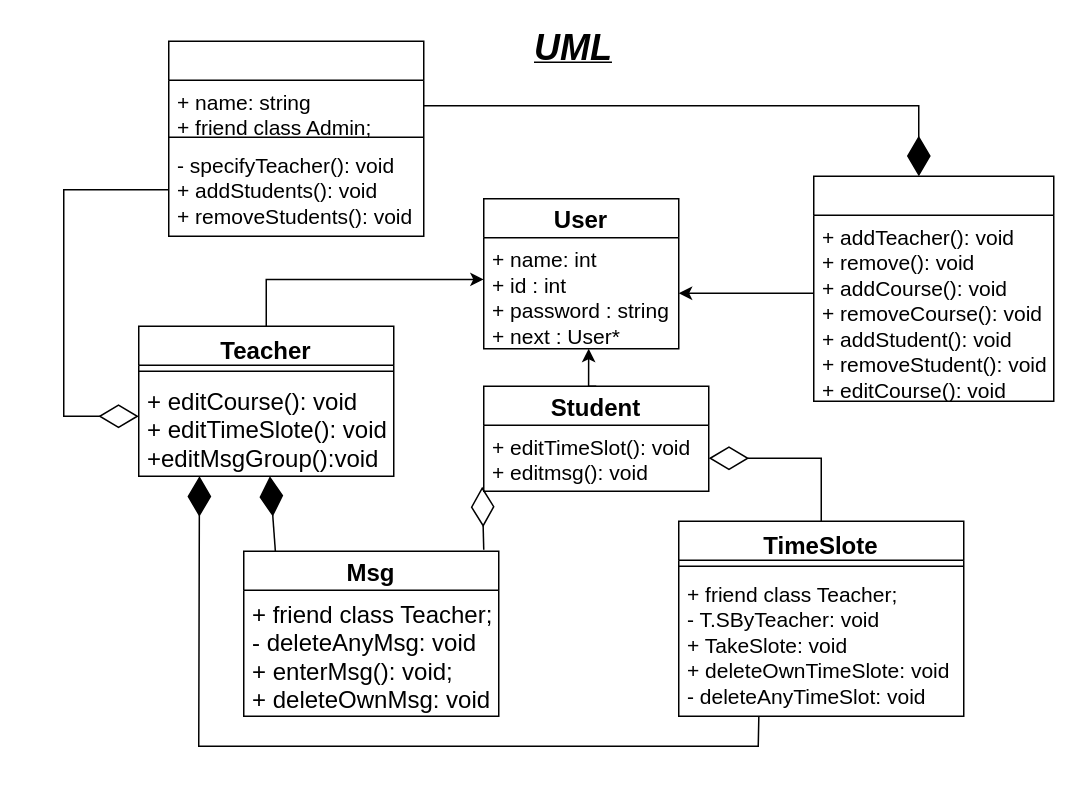
This 1080x812 diagram has some shape labels left out. Each missing label, with the box of its shape:
Admin: (812, 175, 1054, 401)
Course: (167, 40, 424, 236)
